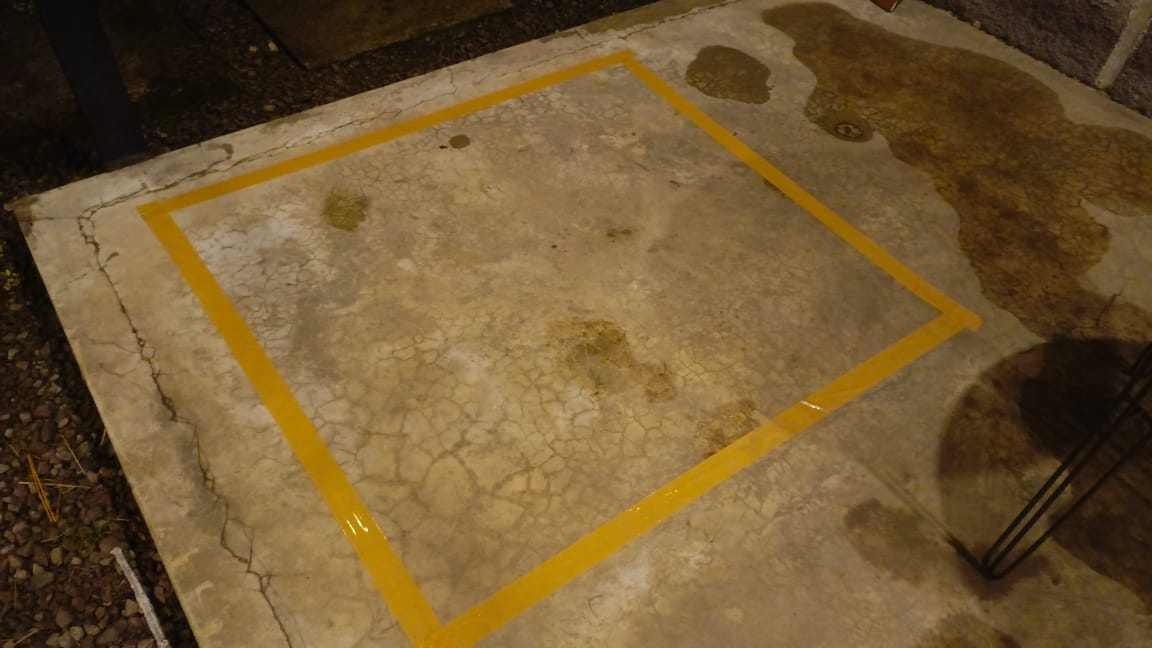floor marking: (137, 50, 981, 642)
